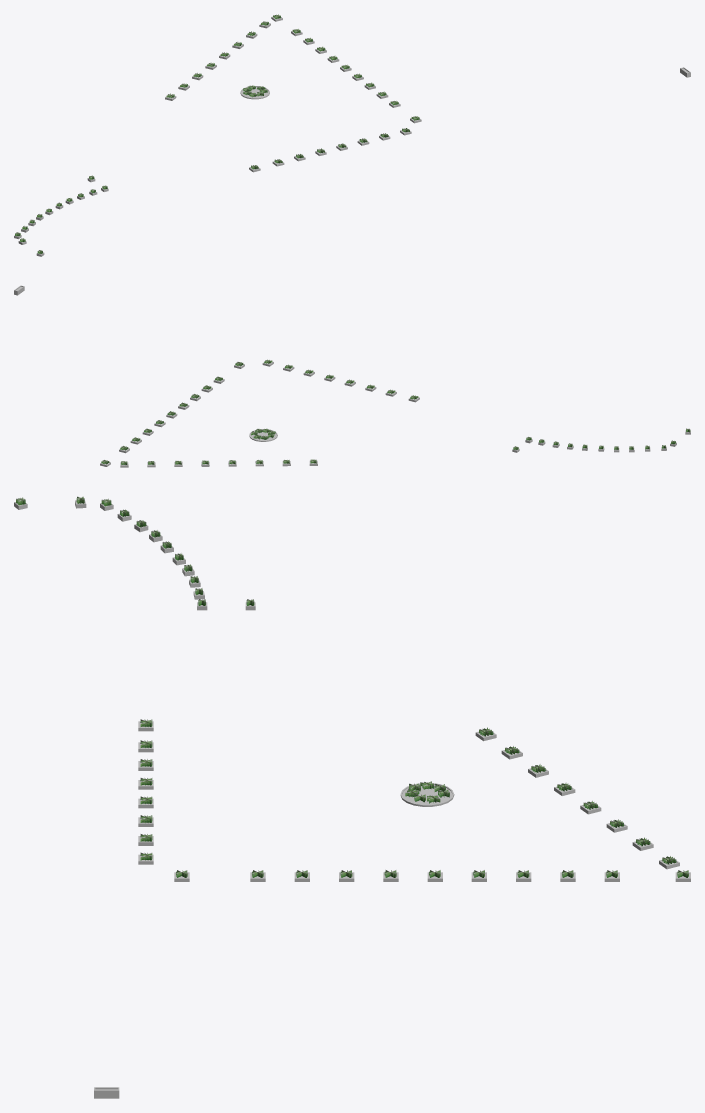
The model's file is clumbs.FBX.
3 views of the same model, one above another, from view 1: azimuth 30°, elevation 25°; view 2: azimuth 150°, elevation 25°; view 3: azimuth 270°, elevation 25° (orthographic). The views are drawn at different scales.
Size of the model in its own units: 4380 by 2106 by 32.22.
